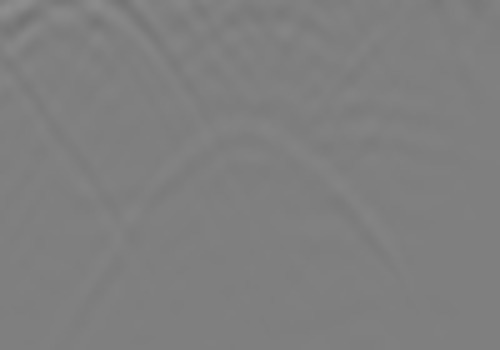hyperbola: (72, 109, 428, 306)
